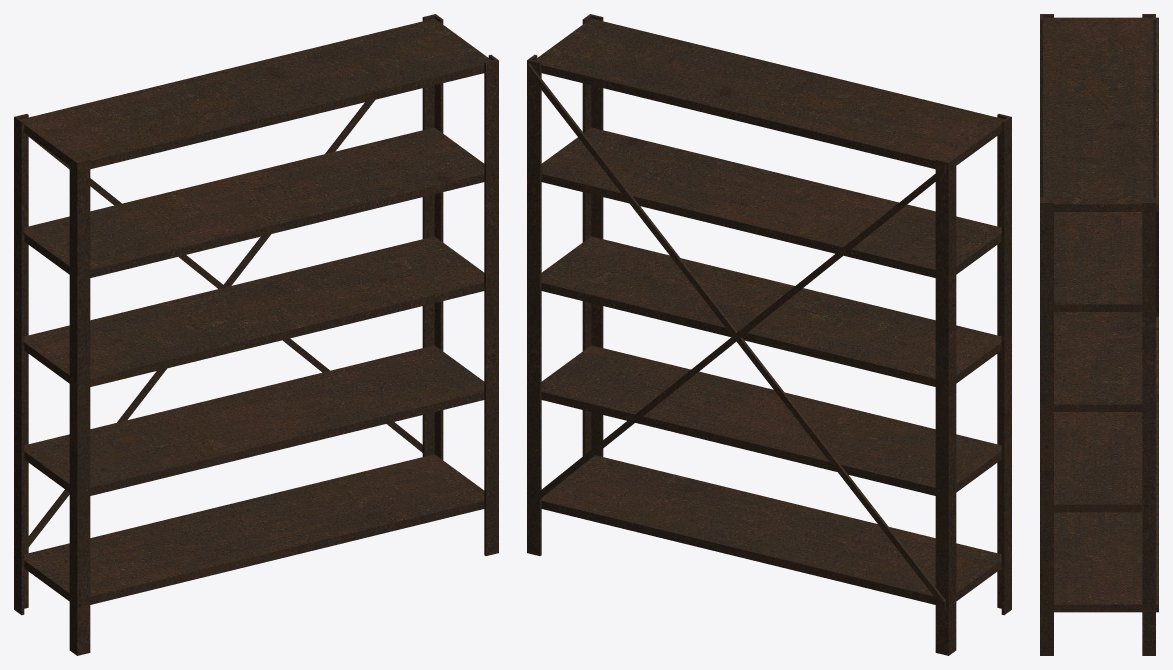
Rendered from shelf_mx_3.glb.
3 renders of one model, left to right at view 1: azimuth 30°, elevation 25°; view 2: azimuth 150°, elevation 25°; view 3: azimuth 270°, elevation 25°, orthographic. The views are drawn at different scales.
Parts seen in each view (by area): view 1: shelf_mx_3; view 2: shelf_mx_3; view 3: shelf_mx_3.
Boxes of the visible parts, x1,y1,x2,y2 form: shelf_mx_3: [14, 14, 498, 655]; shelf_mx_3: [527, 14, 1011, 655]; shelf_mx_3: [1040, 14, 1158, 655].
Size of the model in its own units: 1.62 by 1.81 by 0.43.
1 material, 1 textured.
